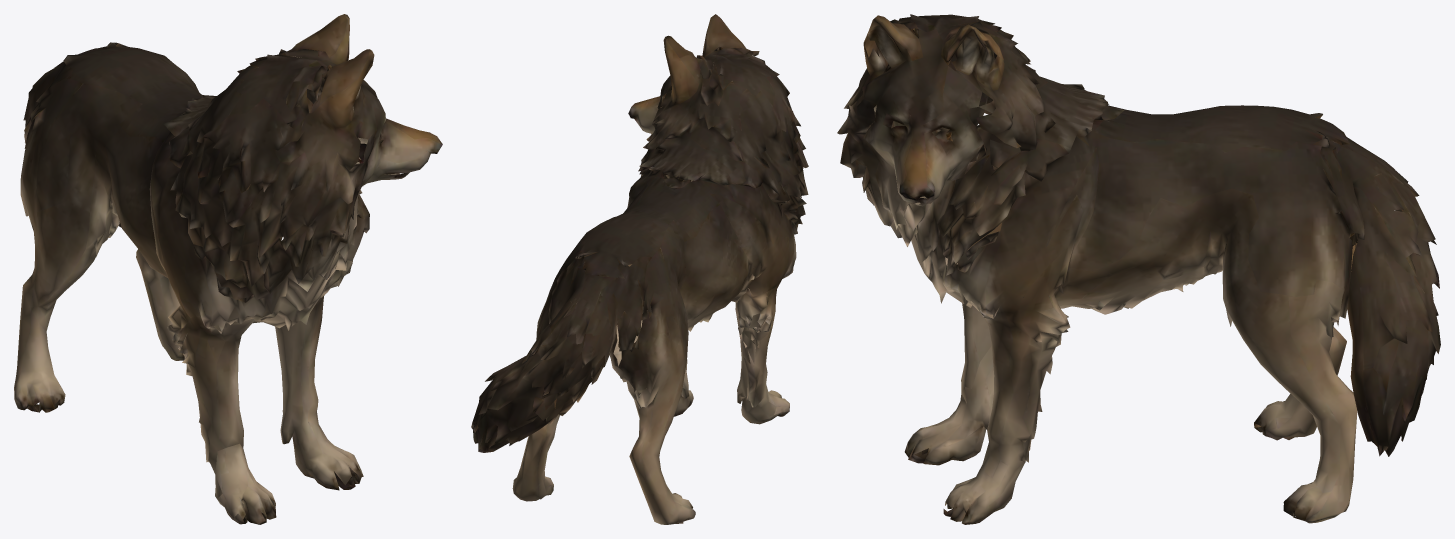
File: wolf.phone.glb
3 renders of one model, left to right at view 1: azimuth 30°, elevation 25°; view 2: azimuth 150°, elevation 25°; view 3: azimuth 270°, elevation 25°, orthographic. The views are drawn at different scales.
Parts seen in each view (by area): view 1: wolf.raw; view 2: wolf.raw; view 3: wolf.raw.
Boxes of the visible parts, x1=… form: wolf.raw: x1=14, y1=14, x2=442, y2=524; wolf.raw: x1=471, y1=14, x2=808, y2=524; wolf.raw: x1=837, y1=14, x2=1440, y2=524.
Bounding box in the file's own units: 0.4779 × 0.8501 × 0.9426.
Materials: 1 (1 with a texture image).
